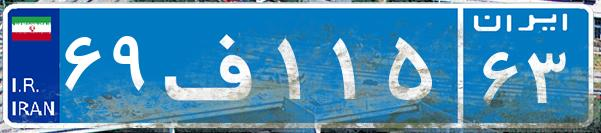1: (273, 28, 330, 110), (330, 28, 385, 110)
3: (525, 38, 570, 115)
5: (385, 28, 445, 110)
6: (57, 26, 110, 107), (475, 38, 525, 113)
9: (110, 28, 158, 105)
ف: (158, 15, 273, 115)
